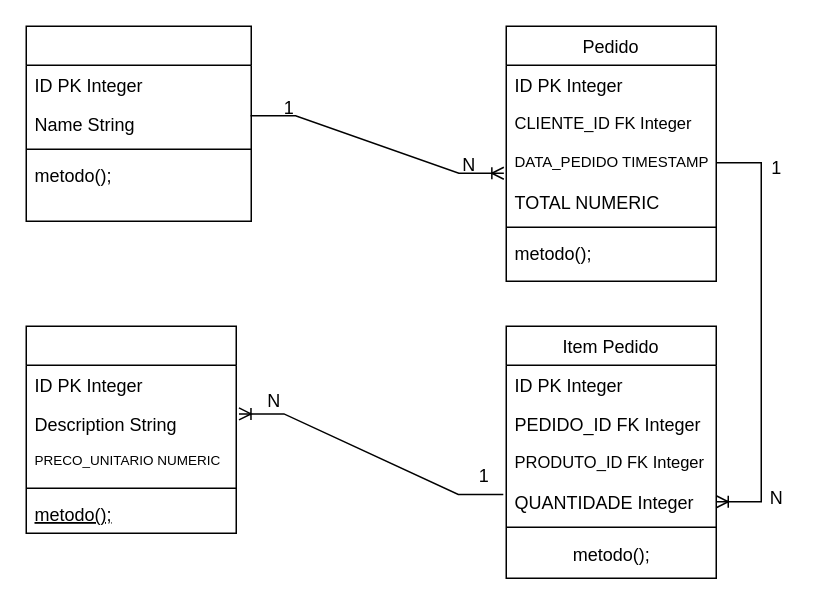
This 825x605 diagram has some shape labels left out. The shapes that lost their labels are listed below. From the top down, each one's box as (x1, y1, x2, y2) in pixels, then its label:
(25, 25, 251, 221): Cliente
(25, 325, 236, 533): Produto
